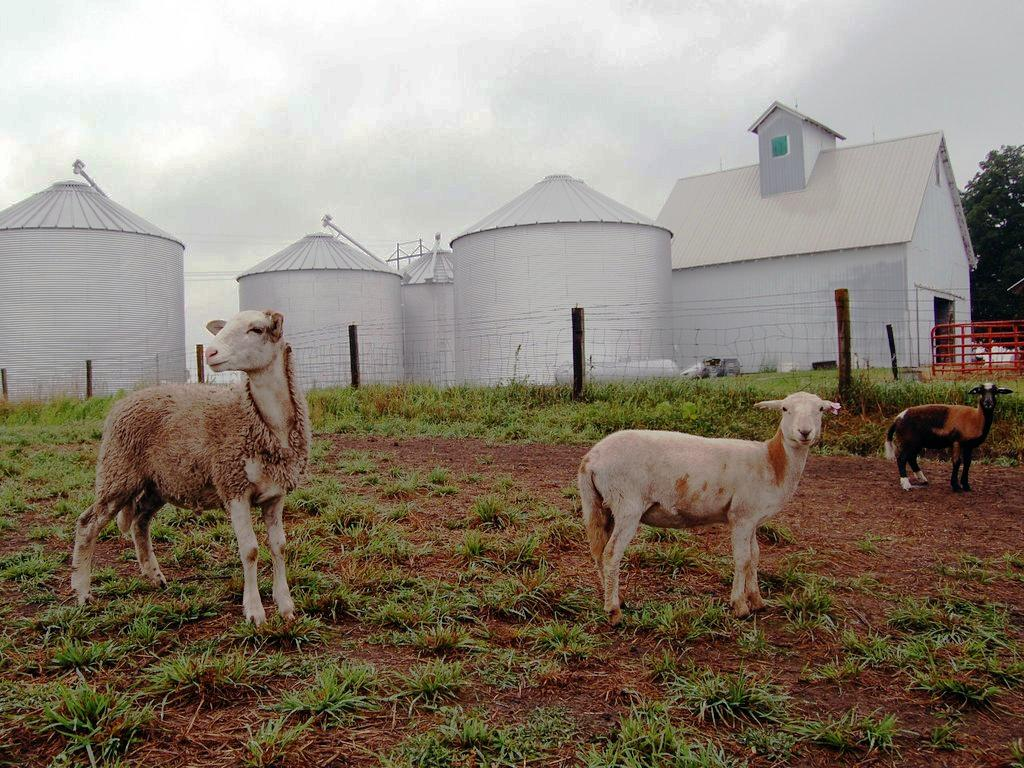Sheep: (70, 314, 312, 634)
